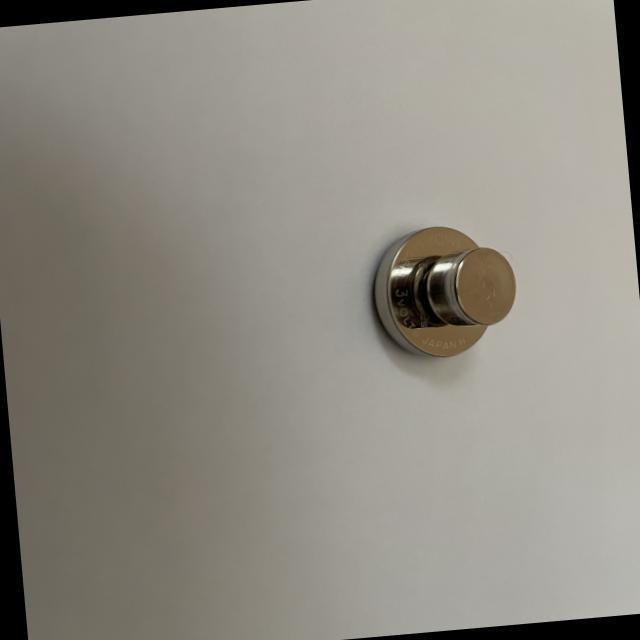COIN: (366, 220, 493, 366), (422, 242, 522, 330)
